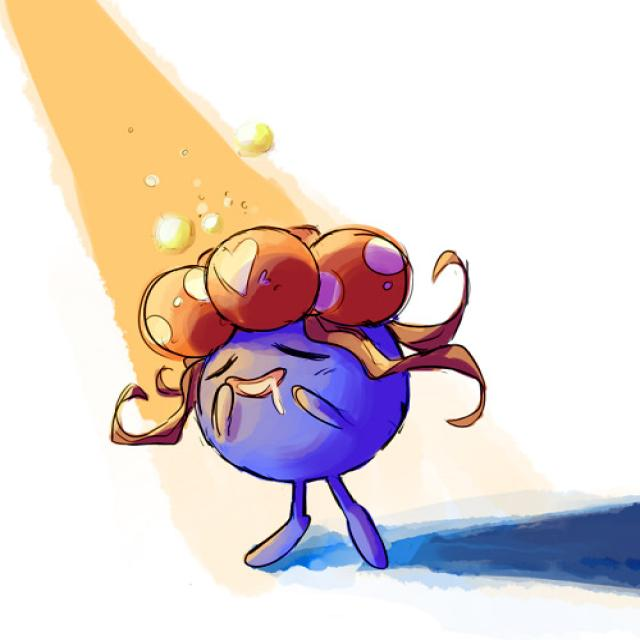Gloom: (138, 222, 423, 574)
